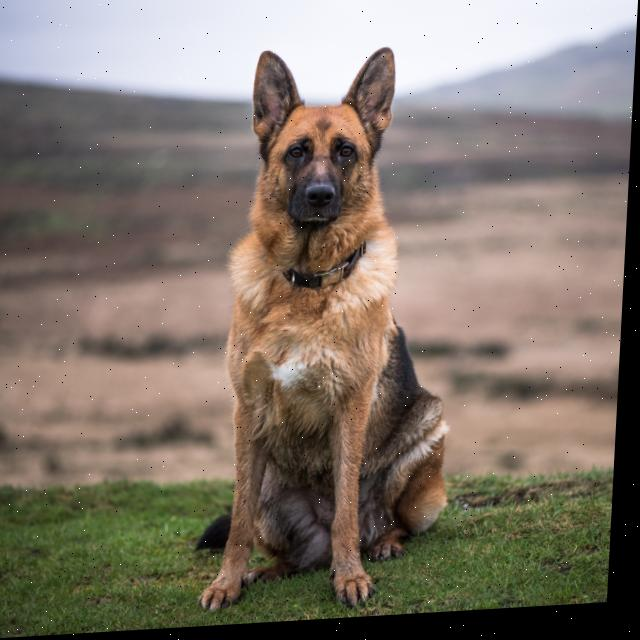GERMAN_SHEPHERD: (196, 30, 480, 618)
